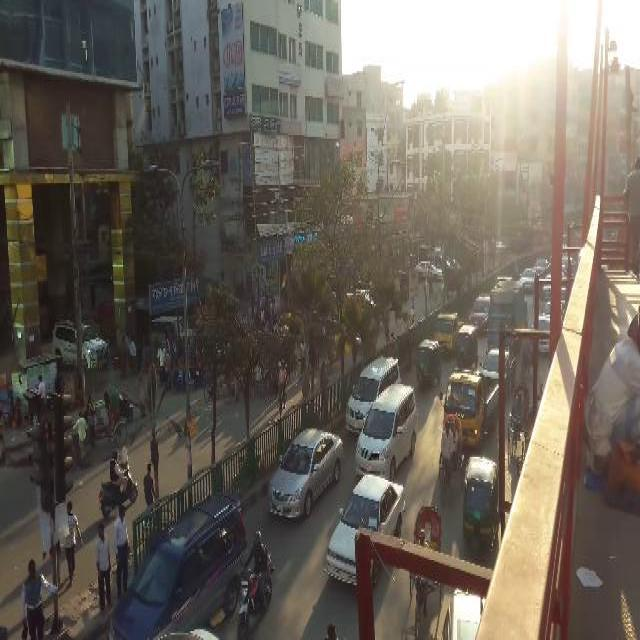bike: (237, 528, 278, 637), (99, 446, 142, 517), (171, 363, 195, 393)
vehicle: (105, 489, 243, 637), (326, 471, 411, 599), (268, 419, 345, 522), (358, 384, 422, 487), (401, 497, 445, 639), (443, 366, 509, 450), (345, 354, 407, 427), (462, 452, 499, 560), (73, 386, 129, 455), (486, 275, 527, 367), (52, 319, 109, 373), (437, 411, 465, 498), (507, 377, 530, 471), (149, 313, 195, 354), (415, 334, 444, 398), (434, 309, 466, 355), (480, 345, 517, 382), (455, 325, 478, 371), (533, 315, 555, 356), (470, 290, 490, 334), (415, 261, 444, 286), (520, 268, 540, 293), (534, 257, 548, 278)
